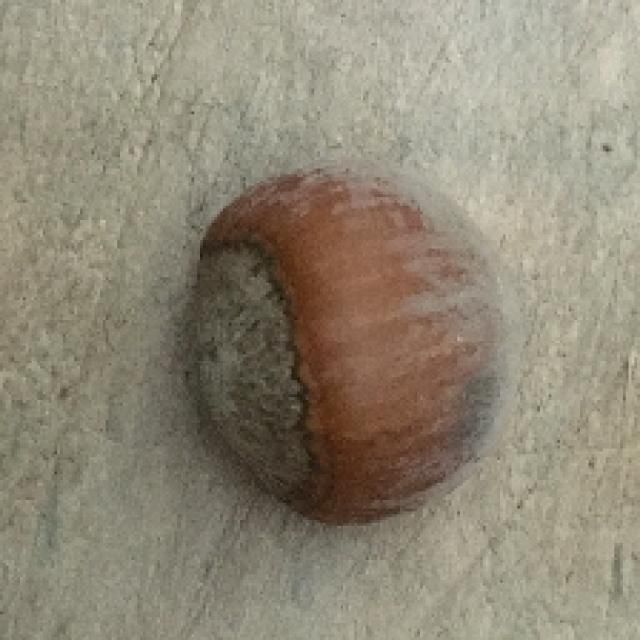qualityHazelnut: (184, 169, 521, 529)
